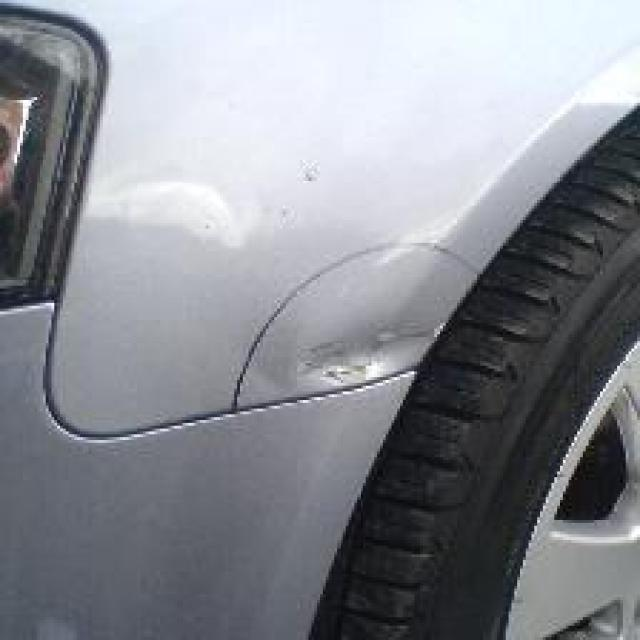damaged: (77, 177, 323, 260), (292, 320, 454, 400)
